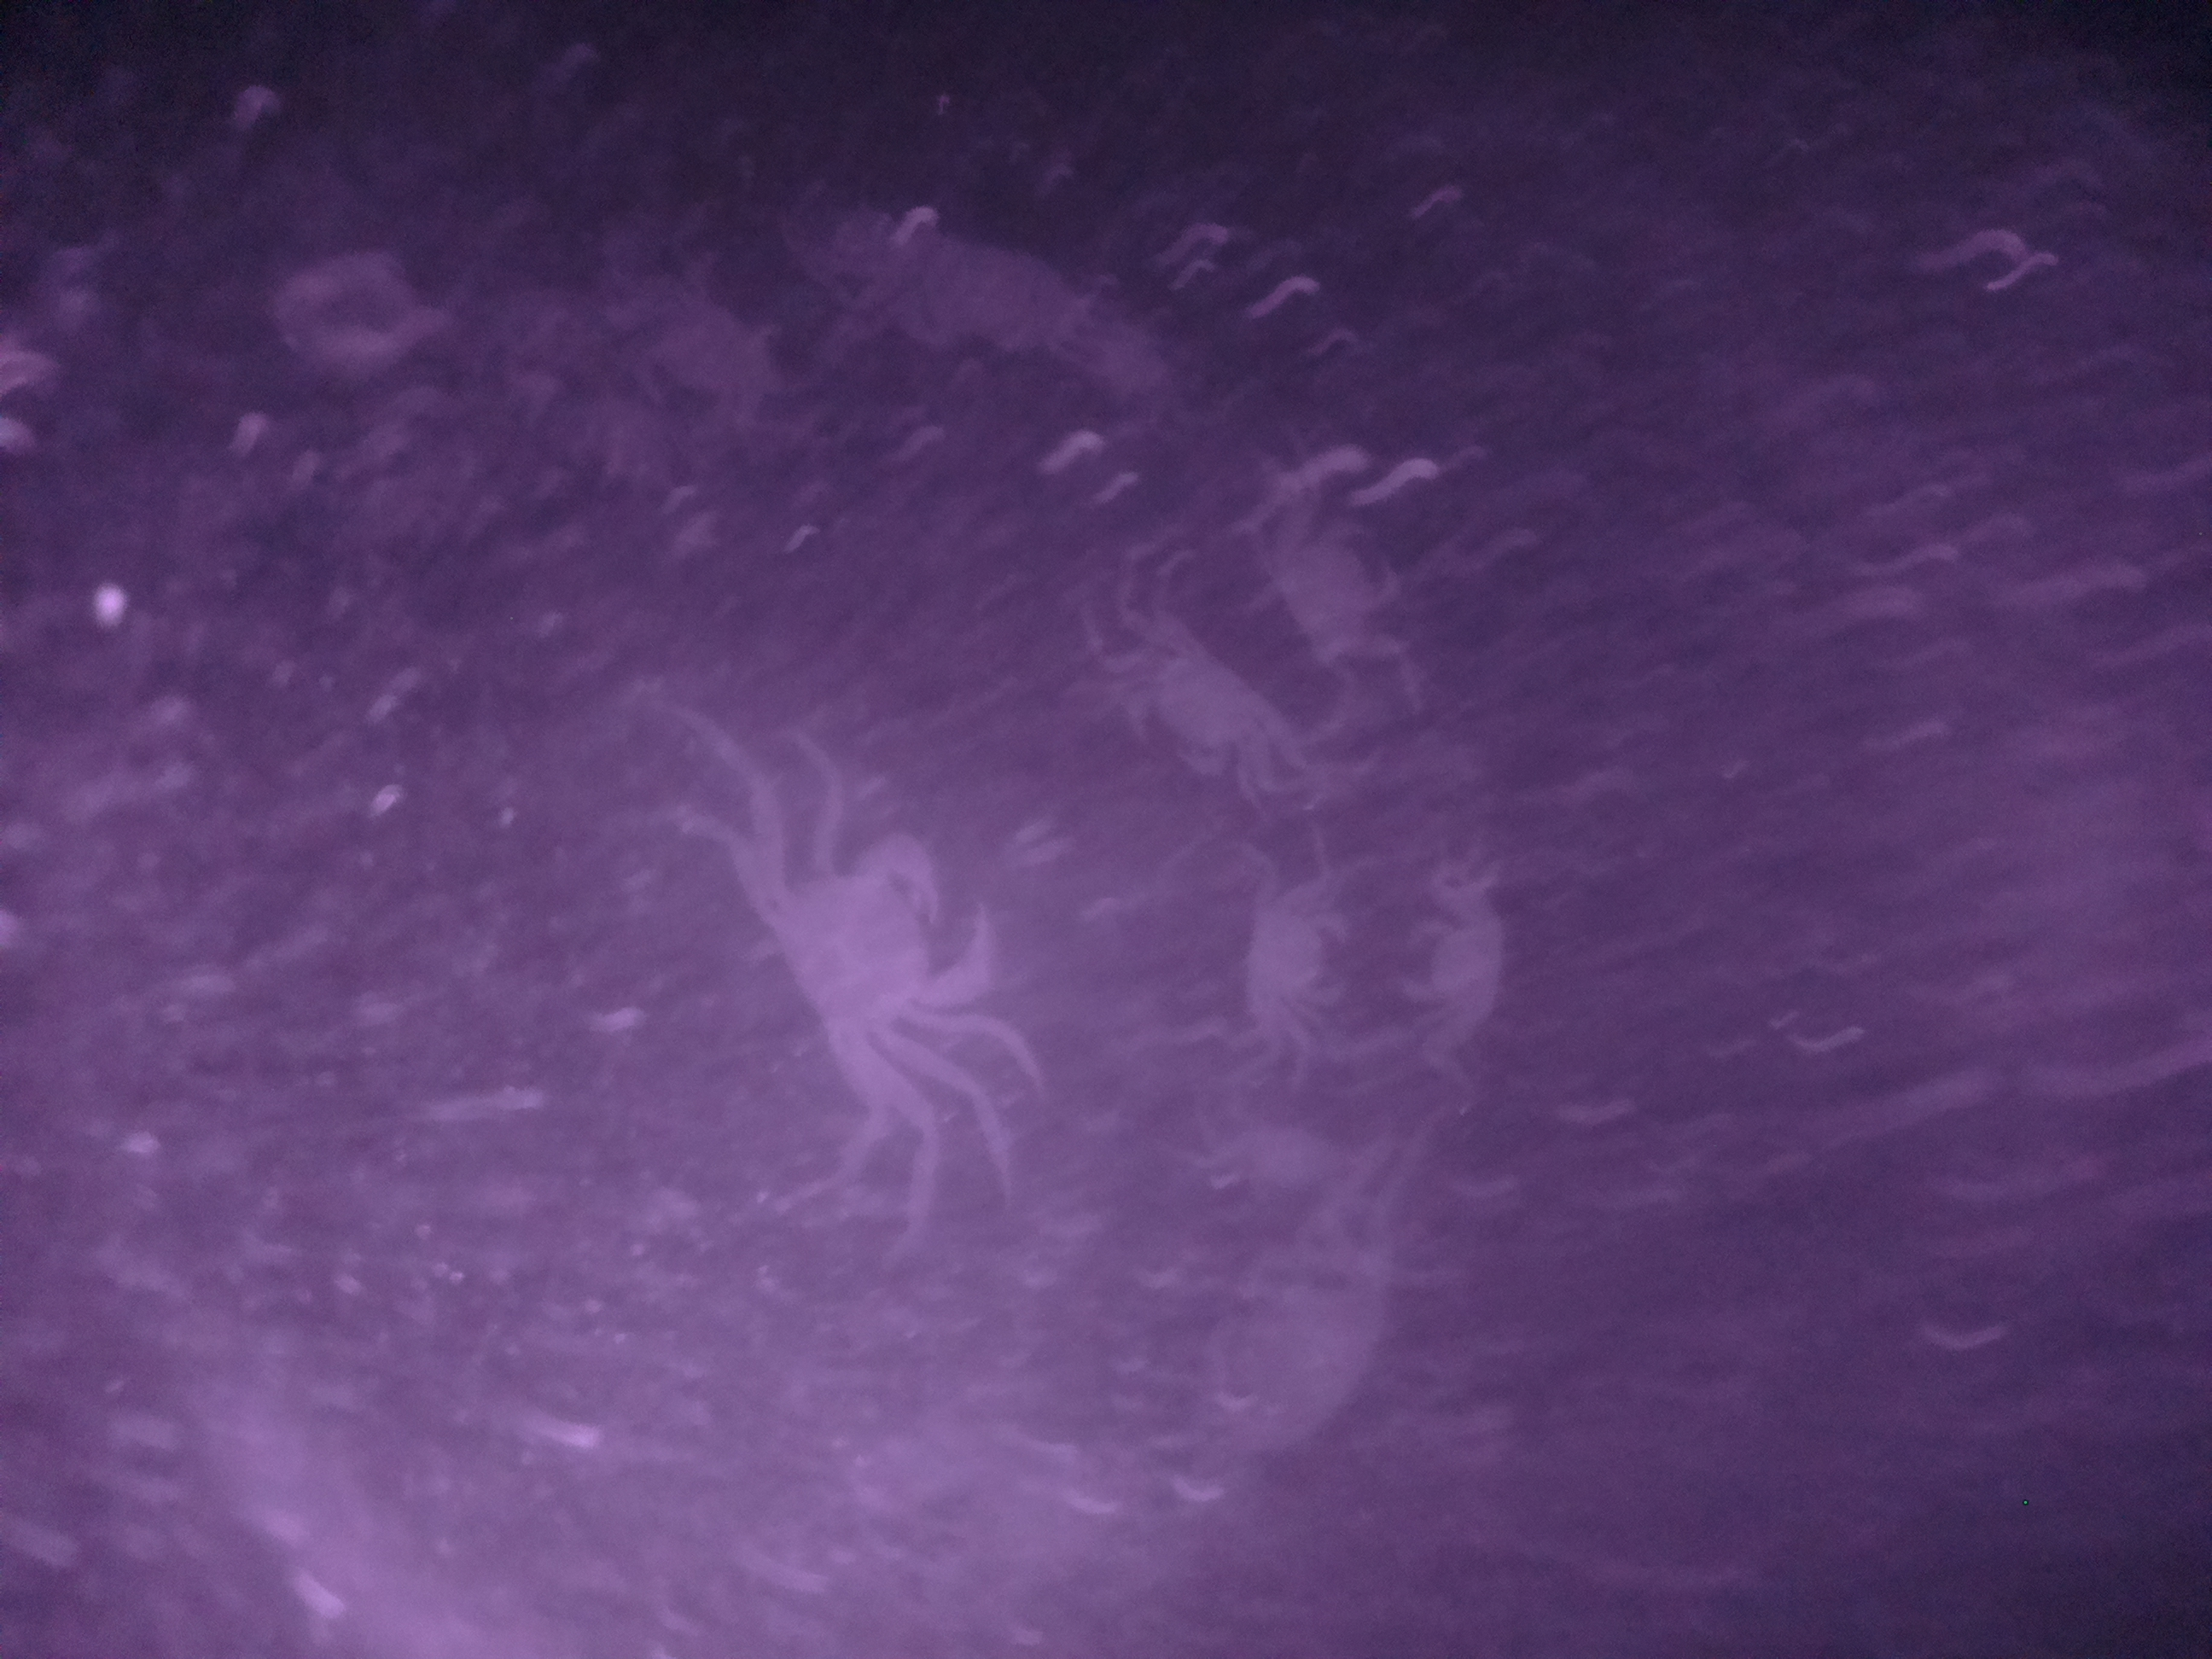Crab: (718, 805, 1015, 1079), (1099, 615, 1291, 807), (1233, 854, 1362, 1075), (1393, 863, 1522, 1047)
